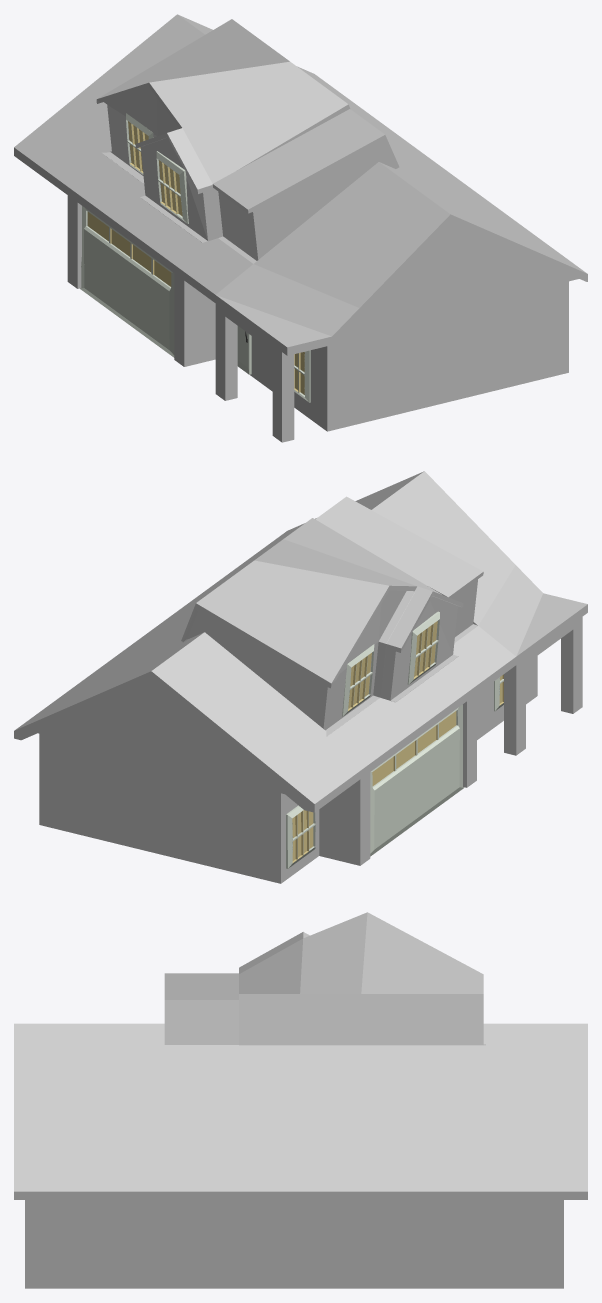
File: House.fbx
3 renders of one model, top to bottom at view 1: azimuth 30°, elevation 25°; view 2: azimuth 150°, elevation 25°; view 3: azimuth 270°, elevation 25°, orthographic. The views are drawn at different scales.
Visible parts, largest first — view 1: Plane; view 2: Plane; view 3: Plane.
Part boxes in pixels (x1,y1,x2,y2): Plane: [14, 14, 587, 442]; Plane: [14, 471, 587, 883]; Plane: [14, 912, 587, 1288].
Size of the model in its own units: 7325 by 5503 by 11532.
